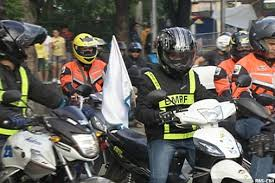helmet: (1, 16, 48, 68), (146, 28, 194, 76), (65, 31, 102, 64), (248, 17, 275, 61), (226, 30, 255, 65)
